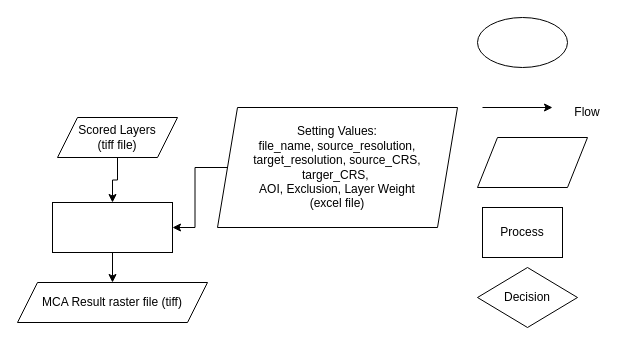
This 635x345 diagram has some shape labels left out. Each missing label, with the centre of its shape:
Input/Output: the point at 532,162
Overlay Calculation: the point at 112,227
Start/End: the point at 522,42
